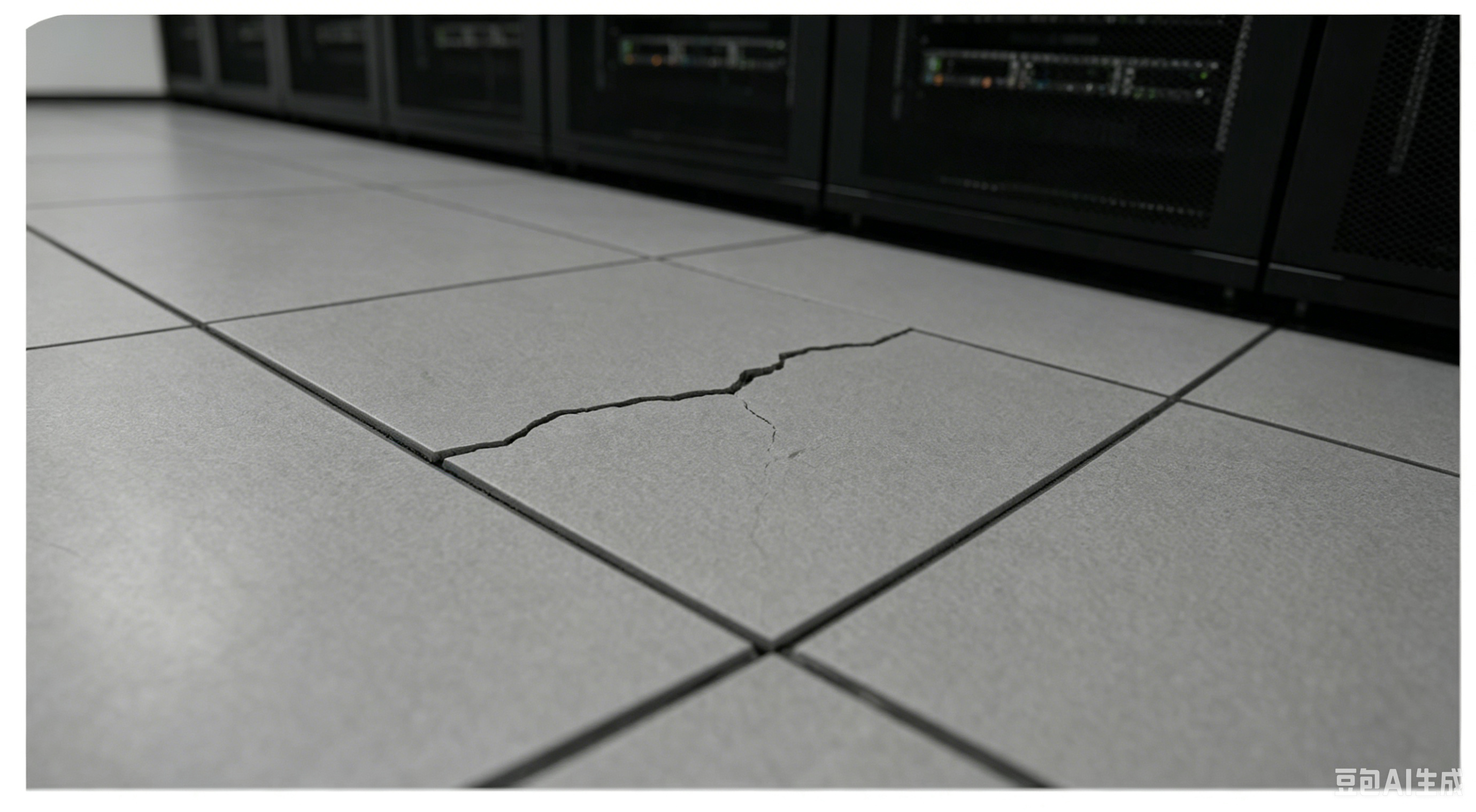floor_defect: (508, 380, 740, 428), (411, 419, 564, 471), (739, 391, 774, 605), (731, 350, 830, 385), (787, 330, 924, 350)
